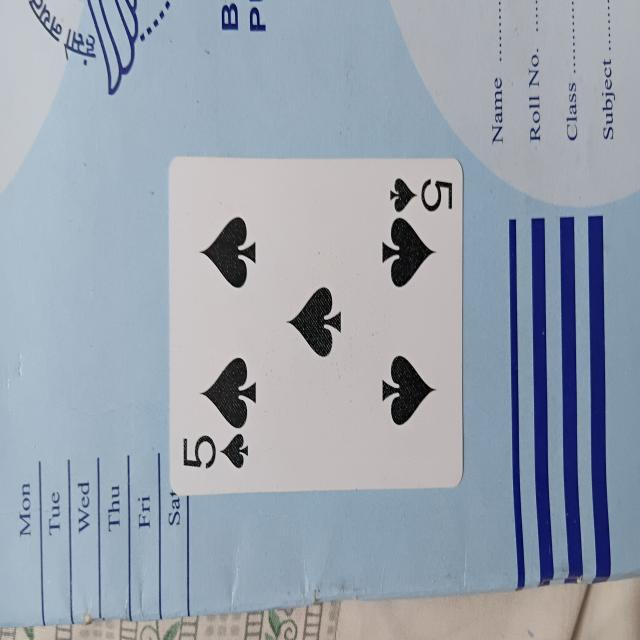5S: (167, 154, 464, 484)
